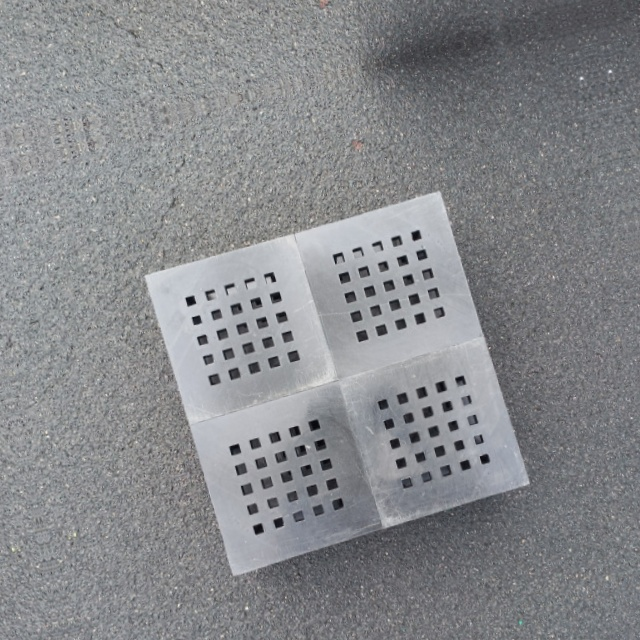pallet: (132, 180, 541, 585)
